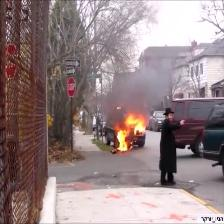fire: (106, 109, 155, 157)
nofire: (63, 72, 79, 99)
smoke: (103, 54, 188, 108)
